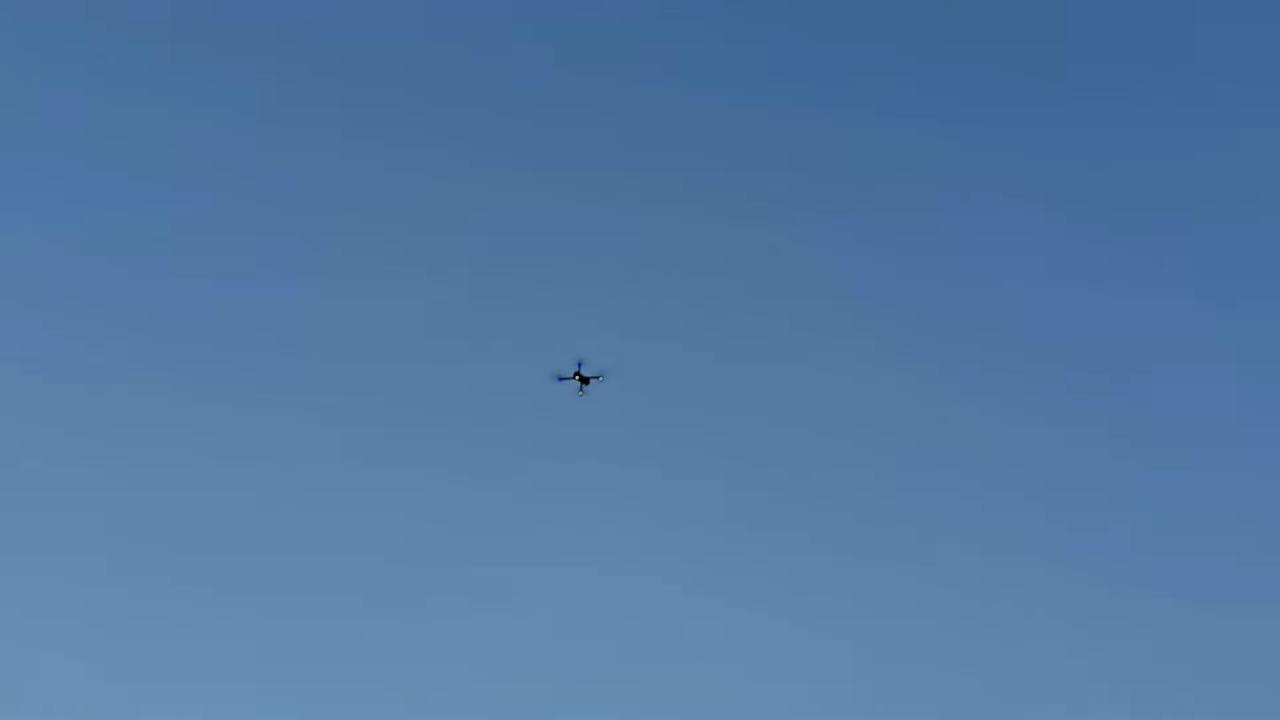Drone: (538, 347, 622, 408)
